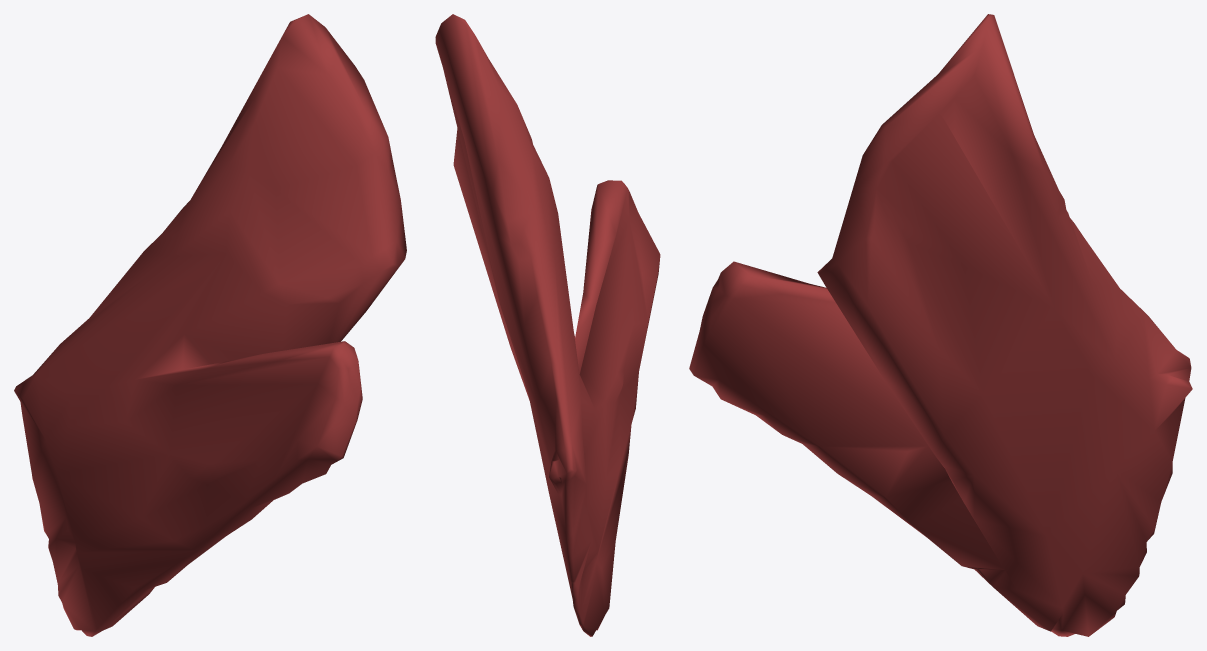
Rendered from medial-pterygoid-muscle-r.glb.
The picture shows the model from 3 angles, left to right: view 1: azimuth 30°, elevation 25°; view 2: azimuth 150°, elevation 25°; view 3: azimuth 270°, elevation 25°; orthographic projection. The views are drawn at different scales.
Parts seen in each view (by area): view 1: Medial pterygoid muscle.r; view 2: Medial pterygoid muscle.r; view 3: Medial pterygoid muscle.r.
Boxes of the visible parts, box(x1,y1,x2,y2) form: Medial pterygoid muscle.r: box(14, 14, 406, 636); Medial pterygoid muscle.r: box(435, 14, 660, 636); Medial pterygoid muscle.r: box(689, 14, 1192, 636).
Bounding box in the file's own units: 0.0225 × 0.0492 × 0.0307.
